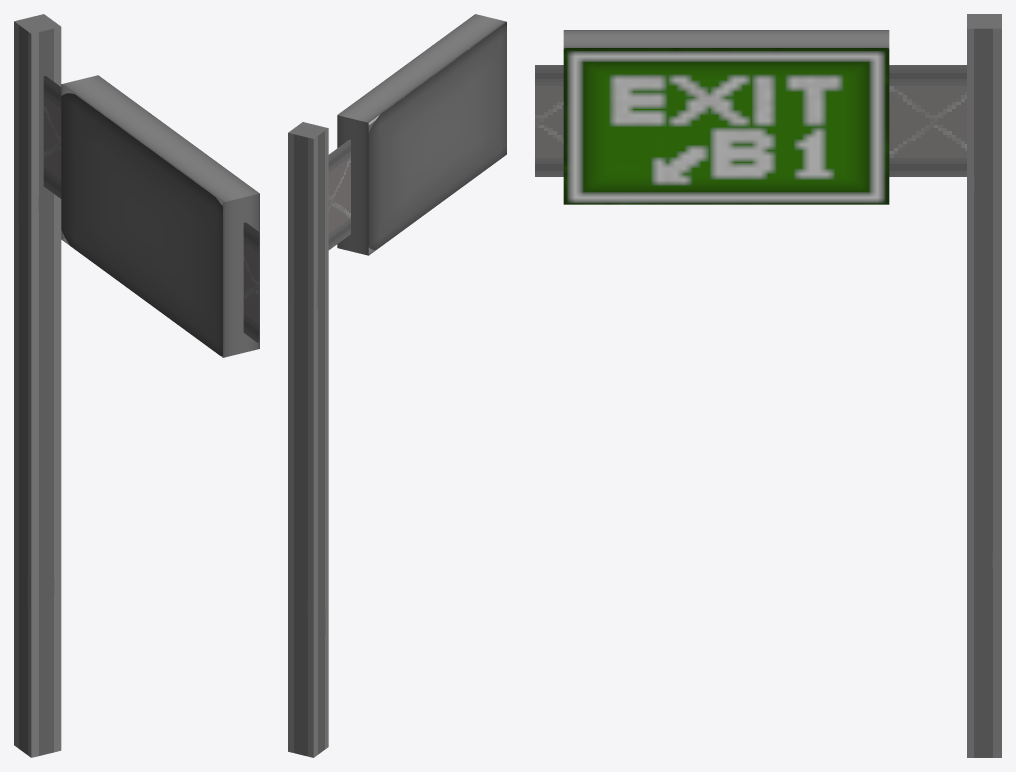
File: BGN_HWAY EXIT.fbx
3 renders of one model, left to right at view 1: azimuth 30°, elevation 25°; view 2: azimuth 150°, elevation 25°; view 3: azimuth 270°, elevation 25°, orthographic. The views are drawn at different scales.
Parts seen in each view (by area): view 1: BGN_HWAY EXIT; view 2: BGN_HWAY EXIT; view 3: BGN_HWAY EXIT.
Boxes of the visible parts, bbox=[...] form: BGN_HWAY EXIT: bbox=[14, 14, 259, 757]; BGN_HWAY EXIT: bbox=[288, 14, 506, 757]; BGN_HWAY EXIT: bbox=[535, 14, 1001, 757].
Size of the model in its own units: 37.94 by 683 by 396.
